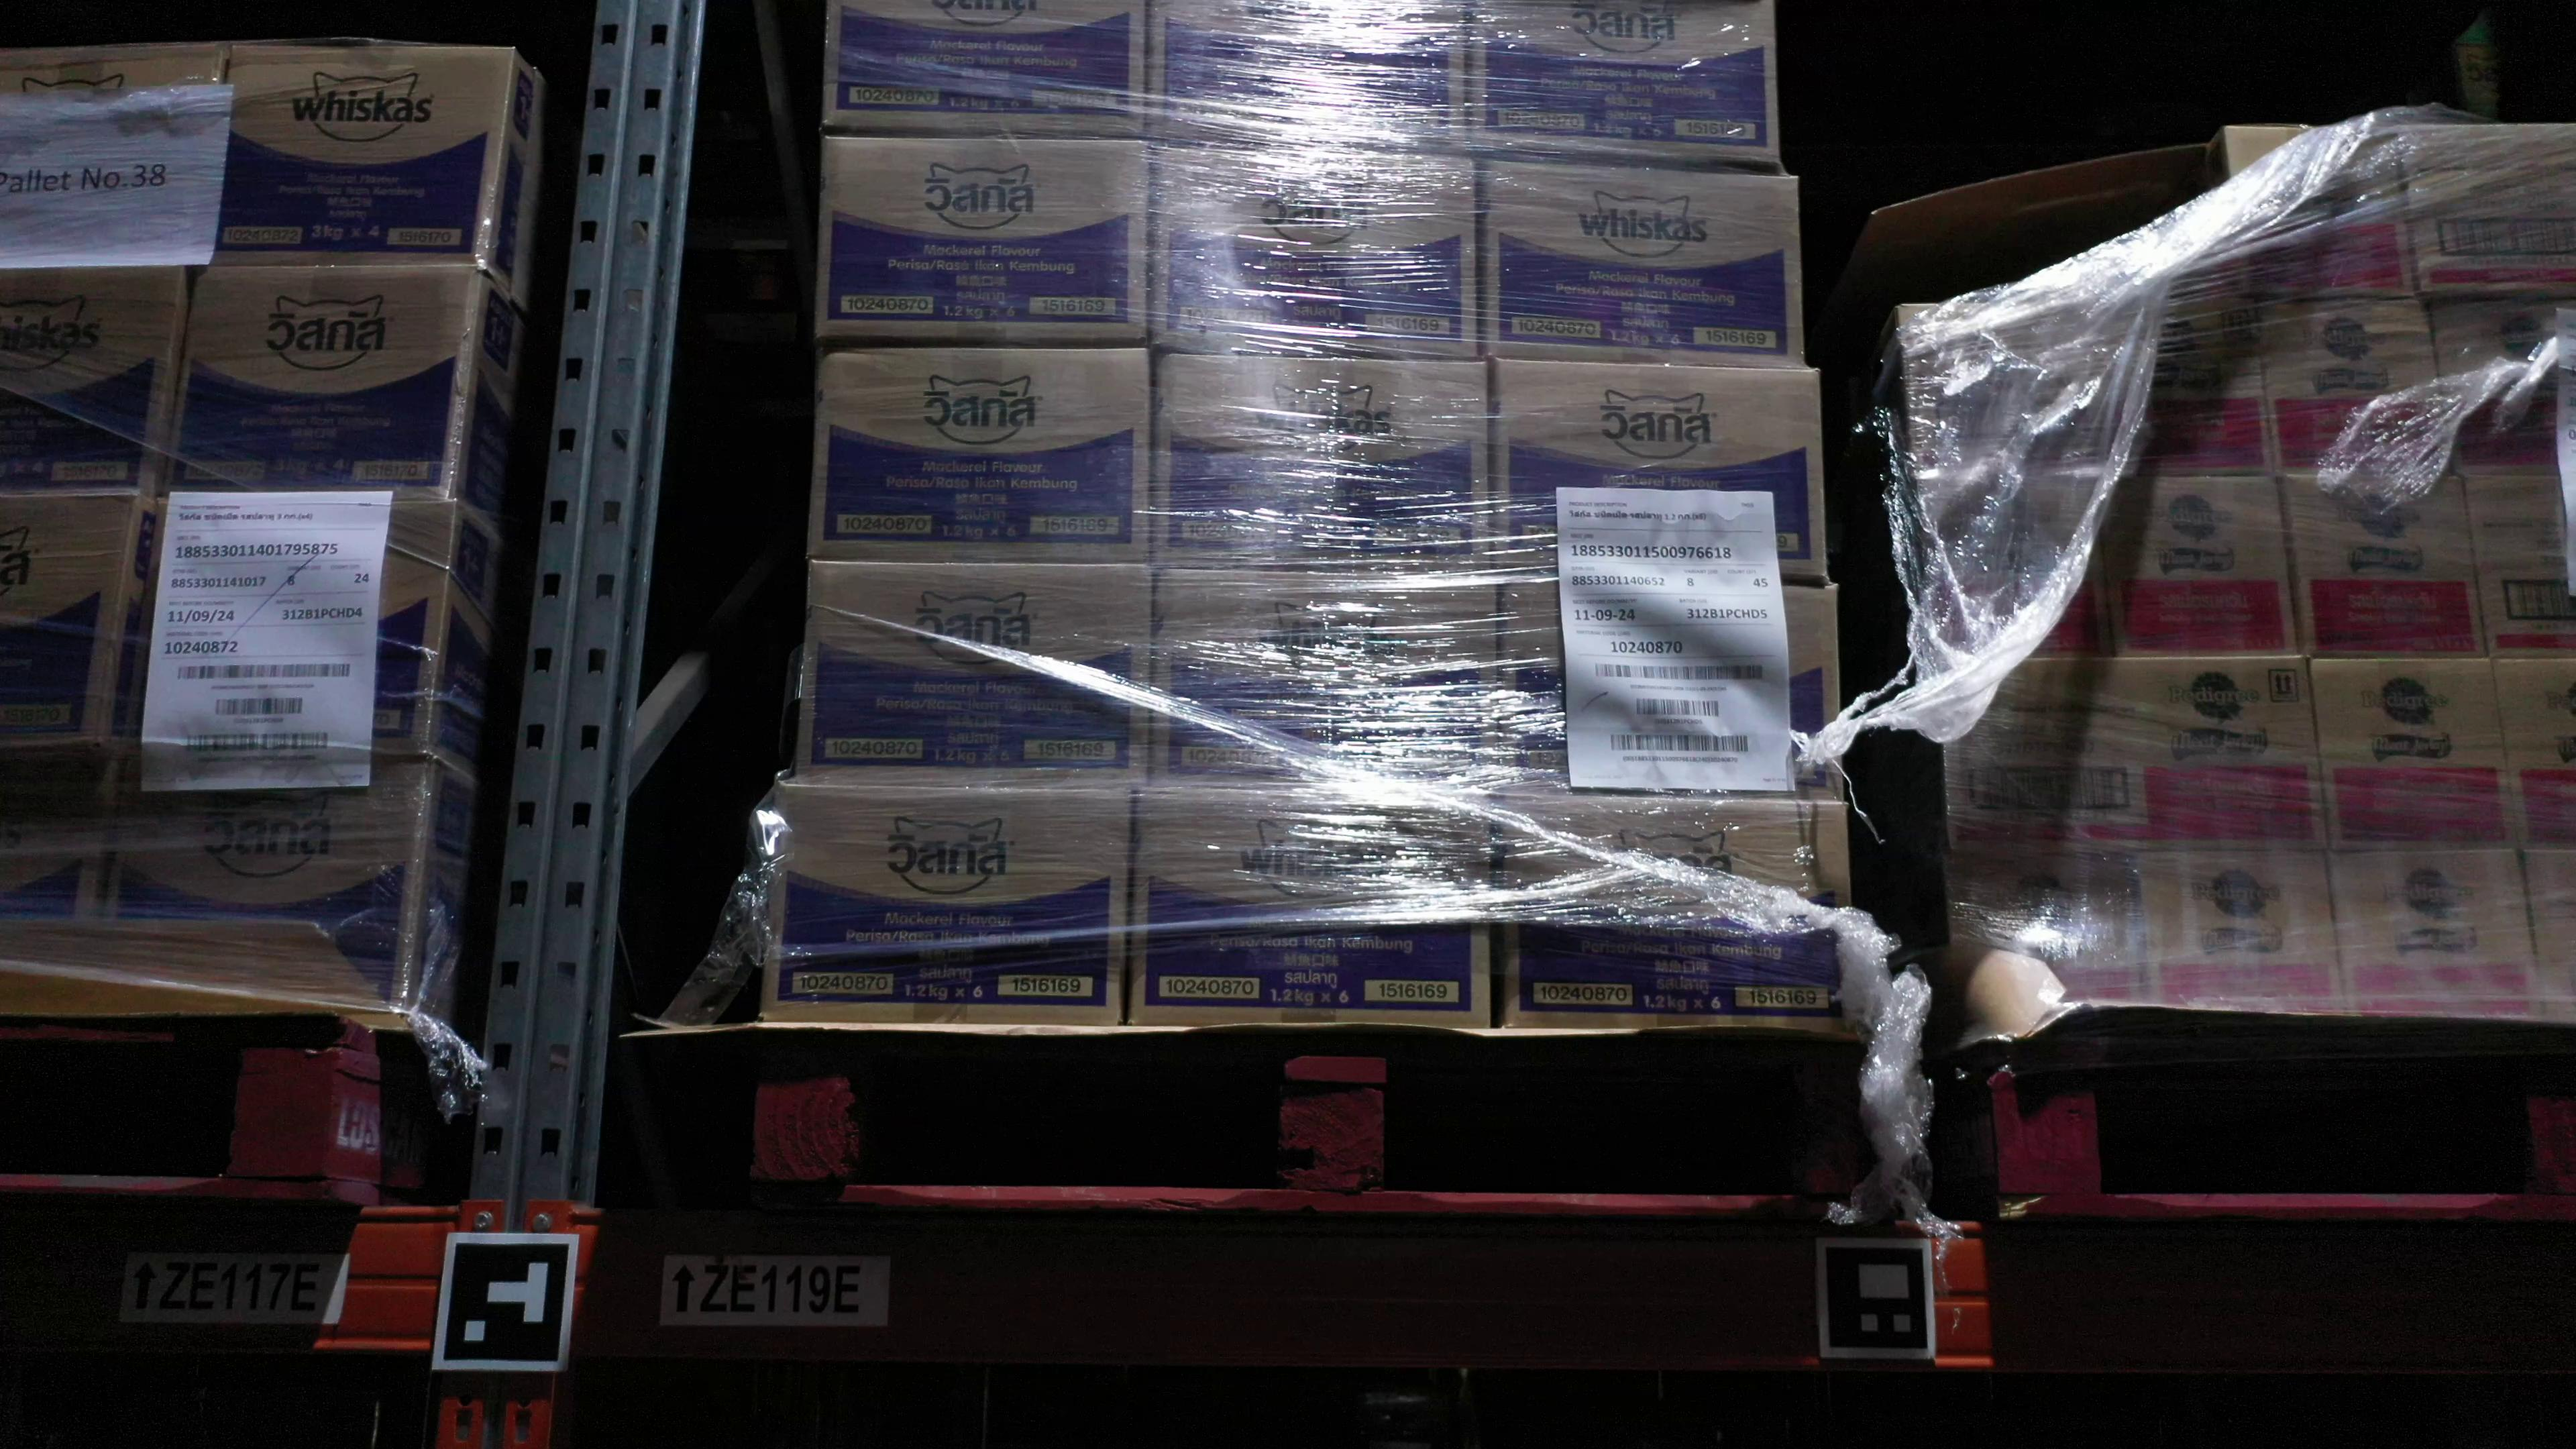-: (96, 740, 432, 1014), (761, 782, 1134, 1026), (124, 494, 464, 757), (1127, 787, 1493, 1028), (794, 559, 1155, 794), (1502, 794, 1856, 1028), (1932, 653, 2330, 858), (1150, 566, 1499, 794), (1499, 573, 1842, 803), (166, 262, 485, 501), (1497, 357, 1828, 586), (1155, 354, 1493, 577), (810, 345, 1150, 566), (196, 42, 515, 269), (1152, 142, 1481, 359), (814, 134, 1152, 341), (1483, 156, 1799, 372), (1904, 303, 2277, 481), (1145, 0, 1468, 154), (0, 42, 226, 262), (0, 260, 180, 494), (2311, 660, 2525, 853), (2279, 472, 2491, 658), (1914, 472, 2120, 655), (2098, 476, 2304, 658), (2332, 853, 2544, 1019), (2259, 295, 2456, 472), (2137, 855, 2348, 1016), (0, 492, 136, 740), (2226, 124, 2417, 297), (2392, 120, 2576, 297), (1946, 853, 2146, 1001), (2424, 297, 2576, 476), (0, 740, 126, 934), (2463, 476, 2576, 660), (2496, 658, 2576, 853), (2523, 853, 2576, 1024)
